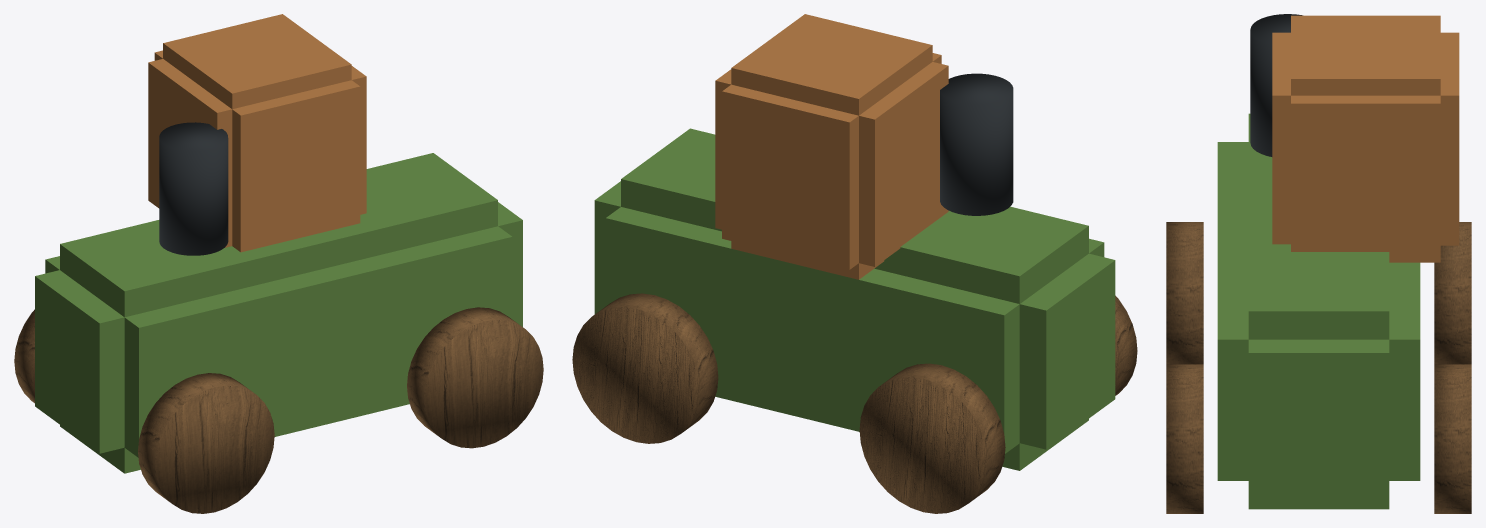
Rendered from sku_v24_train.glb.
3 renders of one model, left to right at view 1: azimuth 30°, elevation 25°; view 2: azimuth 150°, elevation 25°; view 3: azimuth 270°, elevation 25°, orthographic. The views are drawn at different scales.
Parts seen in each view (by area): view 1: sku_v24_train_V24_leaf, sku_v24_train_V24_golden_crust, sku_v24_train_CC0_Oak_veneer, sku_v24_train_V24_satin_black; view 2: sku_v24_train_V24_leaf, sku_v24_train_V24_golden_crust, sku_v24_train_CC0_Oak_veneer, sku_v24_train_V24_satin_black; view 3: sku_v24_train_V24_leaf, sku_v24_train_V24_golden_crust, sku_v24_train_CC0_Oak_veneer, sku_v24_train_V24_satin_black.
Part boxes in pixels (left/top/right/bottom): sku_v24_train_V24_leaf: left=35, top=153, right=522, bottom=473; sku_v24_train_V24_golden_crust: left=148, top=14, right=366, bottom=252; sku_v24_train_CC0_Oak_veneer: left=14, top=307, right=543, bottom=513; sku_v24_train_V24_satin_black: left=159, top=122, right=228, bottom=255; sku_v24_train_V24_leaf: left=594, top=128, right=1115, bottom=470; sku_v24_train_V24_golden_crust: left=715, top=14, right=948, bottom=279; sku_v24_train_CC0_Oak_veneer: left=572, top=293, right=1137, bottom=513; sku_v24_train_V24_satin_black: left=940, top=73, right=1013, bottom=215; sku_v24_train_V24_leaf: left=1217, top=113, right=1420, bottom=509; sku_v24_train_V24_golden_crust: left=1272, top=15, right=1459, bottom=262; sku_v24_train_CC0_Oak_veneer: left=1166, top=222, right=1471, bottom=513; sku_v24_train_V24_satin_black: left=1250, top=14, right=1302, bottom=156.
Size of the model in its own units: 0.17 by 0.1375 by 0.098.
Materials: 4 (1 with a texture image).
